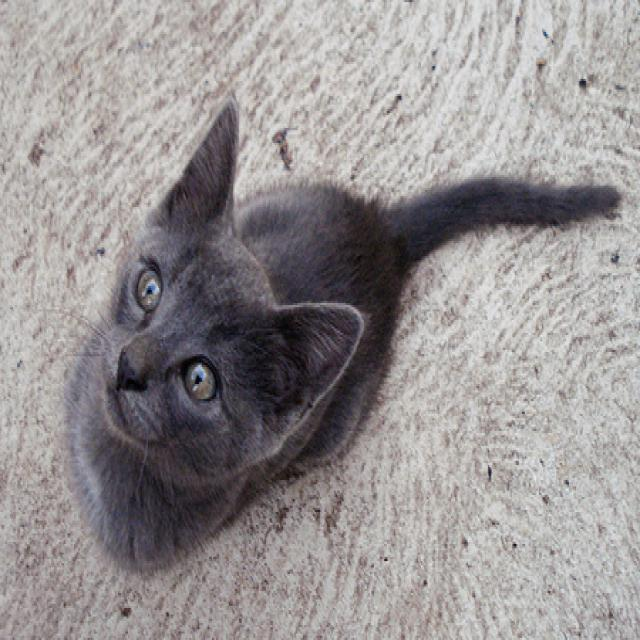Russian Blue: (65, 92, 622, 571)
